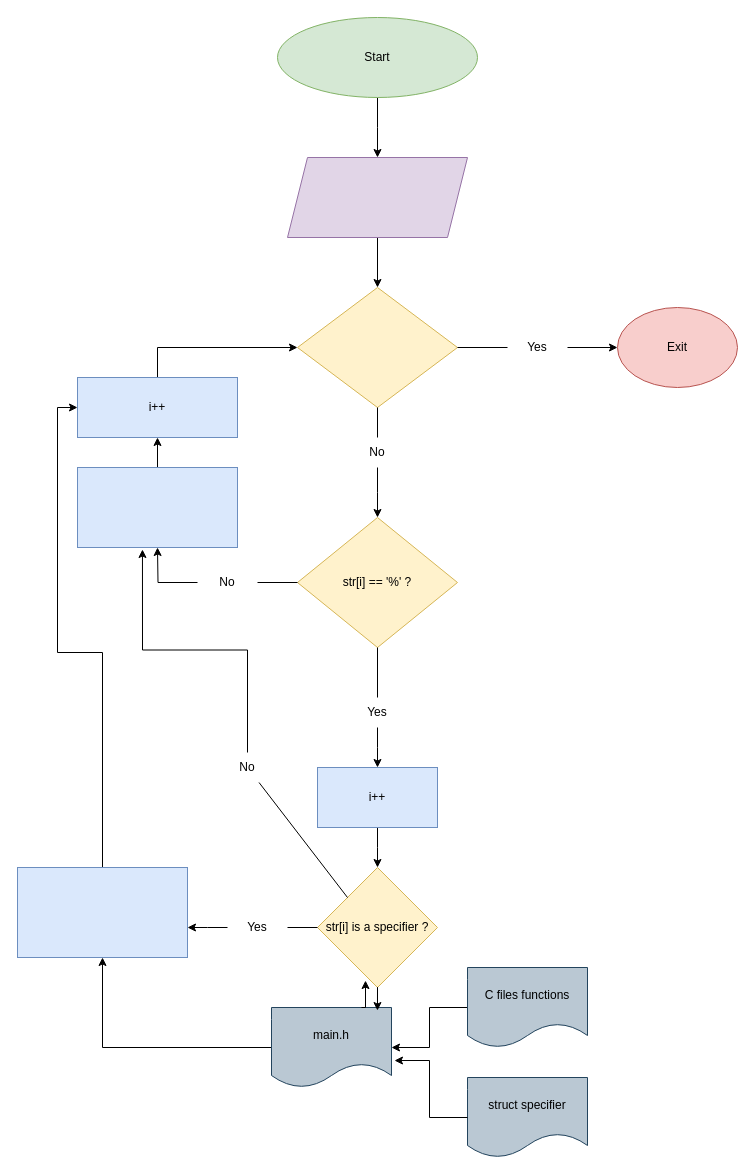
This 755x1175 diagram has some shape labels left out. The shapes that lost their labels are listed below. From the top down, each one's box as (x1, y1, x2, y2) in pixels, then its label:
(286, 156, 468, 238): Input text (str)
(296, 286, 458, 408): str[i] != '\0' ?
(76, 466, 238, 548): write str[i]
(16, 866, 188, 958): Execute specified function
